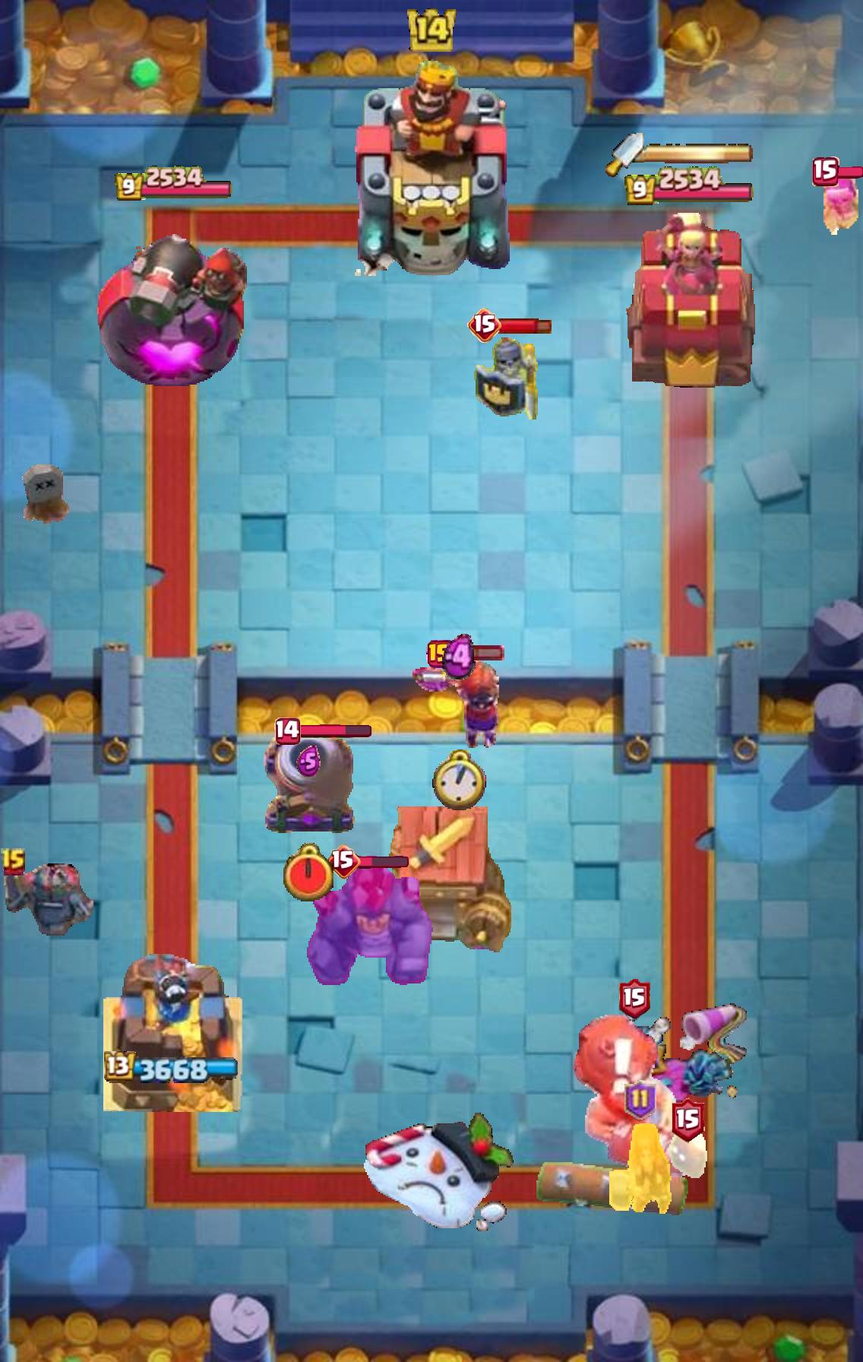elixir: (442, 634, 476, 681), (296, 746, 321, 777)
the-log: (534, 1160, 695, 1218)
